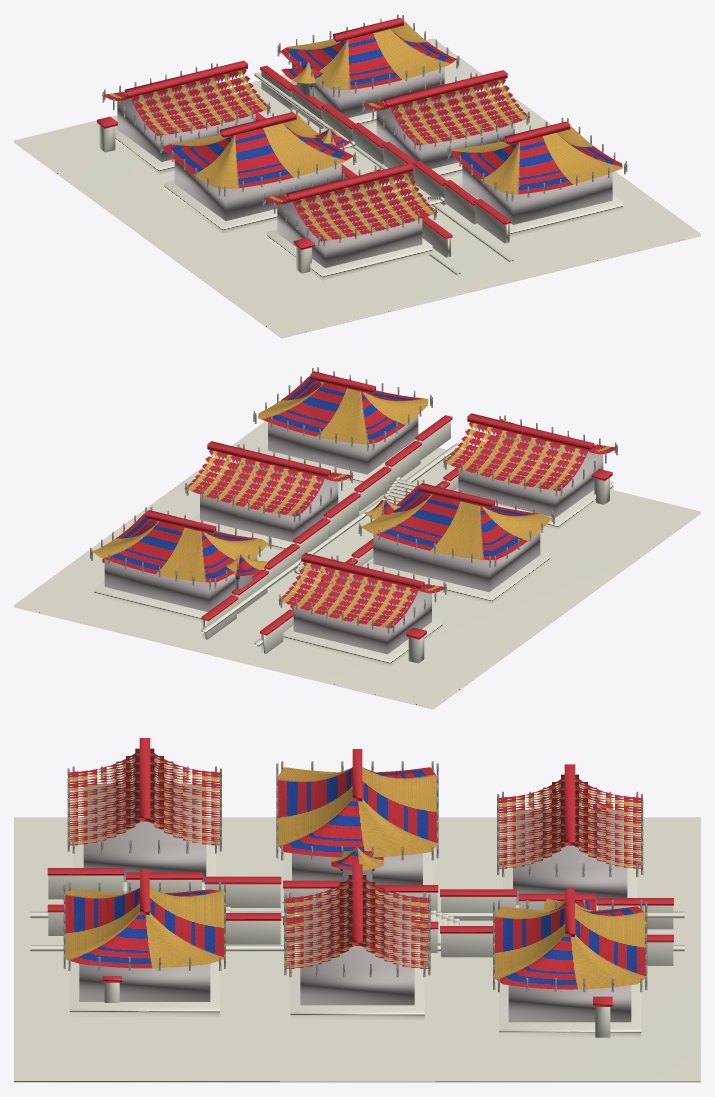
The picture shows the model from 3 angles, top to bottom: view 1: azimuth 30°, elevation 25°; view 2: azimuth 150°, elevation 25°; view 3: azimuth 270°, elevation 25°; orthographic projection. The views are drawn at different scales.
Parts seen in each view (by area): view 1: hanok_paljak_and_gable_roofs, gyedong_alley_paved_slope, hanok_wood_columns_and_windows, hanok_granite_plinths, sagoseok_masonry_walls_and_gates, hanok_eave_rafters_3d, sagoseok_wall_tile_caps, hanok_chimneys_and_heritage_details; view 2: hanok_paljak_and_gable_roofs, gyedong_alley_paved_slope, hanok_wood_columns_and_windows, hanok_granite_plinths, sagoseok_masonry_walls_and_gates, sagoseok_wall_tile_caps, hanok_eave_rafters_3d, hanok_chimneys_and_heritage_details; view 3: gyedong_alley_paved_slope, hanok_paljak_and_gable_roofs, hanok_wood_columns_and_windows, hanok_granite_plinths, sagoseok_masonry_walls_and_gates, sagoseok_wall_tile_caps, hanok_eave_rafters_3d, hanok_chimneys_and_heritage_details.
Part boxes in pixels (x1,y1,x2,y2): hanok_paljak_and_gable_roofs: [102, 18, 622, 241]; gyedong_alley_paved_slope: [14, 38, 700, 338]; hanok_wood_columns_and_windows: [117, 63, 612, 267]; hanok_granite_plinths: [115, 81, 622, 280]; sagoseok_masonry_walls_and_gates: [261, 71, 509, 257]; hanok_eave_rafters_3d: [102, 14, 627, 246]; sagoseok_wall_tile_caps: [255, 65, 510, 239]; hanok_chimneys_and_heritage_details: [97, 116, 314, 273]; hanok_paljak_and_gable_roofs: [93, 371, 618, 628]; gyedong_alley_paved_slope: [14, 421, 700, 709]; hanok_wood_columns_and_windows: [104, 415, 603, 654]; hanok_granite_plinths: [94, 433, 613, 666]; sagoseok_masonry_walls_and_gates: [202, 421, 458, 653]; sagoseok_wall_tile_caps: [201, 415, 499, 635]; hanok_eave_rafters_3d: [90, 367, 617, 633]; hanok_chimneys_and_heritage_details: [102, 469, 612, 663]; gyedong_alley_paved_slope: [14, 817, 700, 1082]; hanok_paljak_and_gable_roofs: [64, 738, 646, 989]; hanok_wood_columns_and_windows: [79, 784, 631, 1022]; hanok_granite_plinths: [69, 817, 641, 1036]; sagoseok_masonry_walls_and_gates: [48, 875, 673, 965]; sagoseok_wall_tile_caps: [47, 868, 673, 942]; hanok_eave_rafters_3d: [63, 761, 647, 992]; hanok_chimneys_and_heritage_details: [102, 804, 612, 1037].
Bounding box in the file's own units: 38 × 8.32 × 42.
4 materials, 4 textured.
